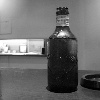beer: (50, 5, 83, 90)
